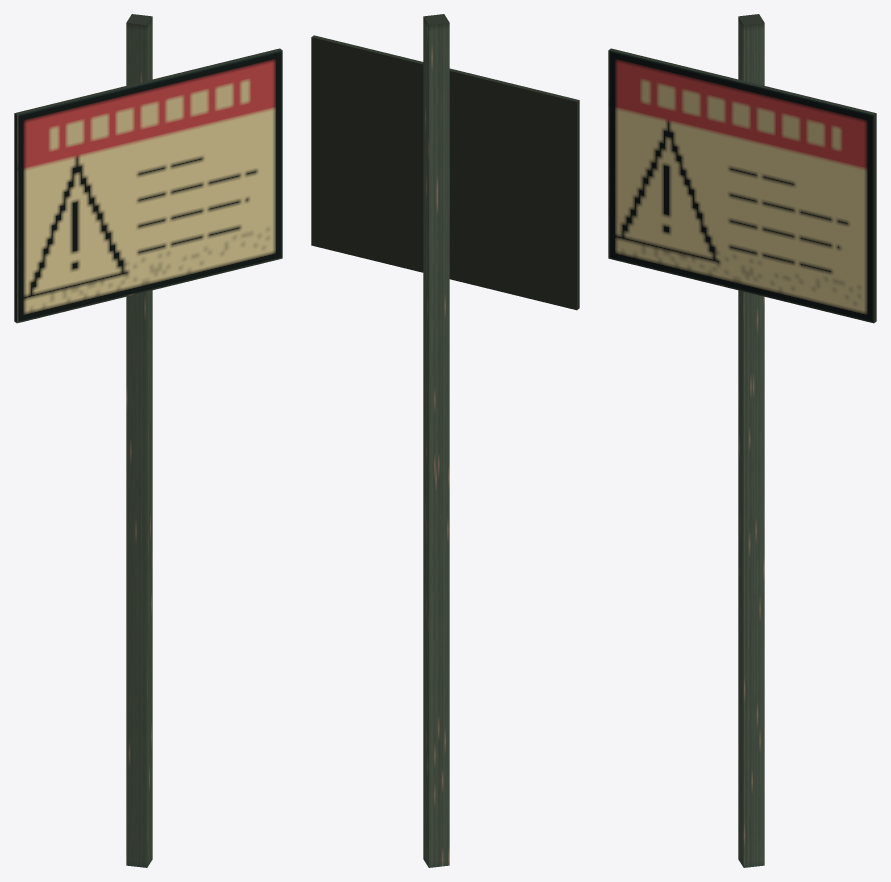
The model's file is SM_Forest_Sign_Warning_60x10x160.fbx.
3 views of the same model, side by side, from view 1: azimuth 30°, elevation 25°; view 2: azimuth 150°, elevation 25°; view 3: azimuth 330°, elevation 25° (orthographic).
Parts seen in each view (by area): view 1: SM_Forest_Sign_Warning_60x10x160.002; view 2: SM_Forest_Sign_Warning_60x10x160.002; view 3: SM_Forest_Sign_Warning_60x10x160.002.
Boxes of the visible parts, x1,y1,x2,y2 form: SM_Forest_Sign_Warning_60x10x160.002: (14, 14, 282, 867); SM_Forest_Sign_Warning_60x10x160.002: (311, 14, 579, 867); SM_Forest_Sign_Warning_60x10x160.002: (608, 14, 876, 867).
Size of the model in its own units: 0.6 by 1.82 by 0.07.
